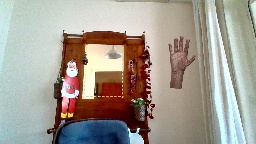Mano_aperta: (166, 35, 197, 72)
